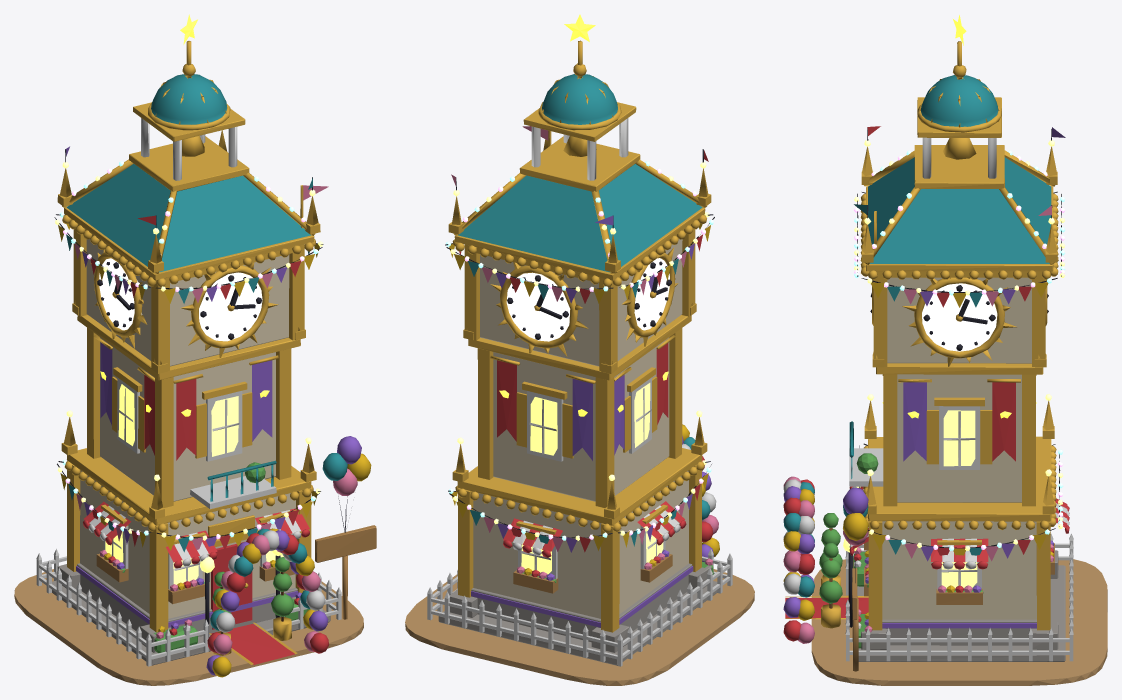
The model's file is clock-tower-stage-6-merged.ae5e9423.glb.
The picture shows the model from 3 angles, left to right: view 1: azimuth 30°, elevation 25°; view 2: azimuth 150°, elevation 25°; view 3: azimuth 270°, elevation 25°; orthographic projection.
Parts seen in each view (by area): view 1: ClockTower_Stage6__T_vcol, ClockTower_Stage6__G_clockface, ClockTower_Stage6__G_window, ClockTower_Stage6__G_bulb_warm, ClockTower_Stage6__G_bulb_cyan; view 2: ClockTower_Stage6__T_vcol, ClockTower_Stage6__G_clockface, ClockTower_Stage6__G_window, ClockTower_Stage6__G_bulb_warm, ClockTower_Stage6__G_bulb_cyan, ClockTower_Stage6__G_star_gold; view 3: ClockTower_Stage6__T_vcol, ClockTower_Stage6__G_clockface, ClockTower_Stage6__G_window, ClockTower_Stage6__G_bulb_warm, ClockTower_Stage6__G_bulb_cyan, ClockTower_Stage6__G_bulb_pink.
Part boxes in pixels (left/top/right/bottom): ClockTower_Stage6__T_vcol: left=14, top=41, right=376, bottom=685; ClockTower_Stage6__G_clockface: left=99, top=258, right=262, bottom=341; ClockTower_Stage6__G_window: left=105, top=384, right=283, bottom=584; ClockTower_Stage6__G_bulb_warm: left=55, top=162, right=323, bottom=540; ClockTower_Stage6__G_bulb_cyan: left=59, top=161, right=318, bottom=540; ClockTower_Stage6__T_vcol: left=405, top=40, right=754, bottom=685; ClockTower_Stage6__G_clockface: left=506, top=258, right=669, bottom=341; ClockTower_Stage6__G_window: left=521, top=383, right=663, bottom=574; ClockTower_Stage6__G_bulb_warm: left=450, top=162, right=709, bottom=540; ClockTower_Stage6__G_bulb_cyan: left=446, top=161, right=713, bottom=540; ClockTower_Stage6__G_star_gold: left=499, top=14, right=668, bottom=416; ClockTower_Stage6__T_vcol: left=783, top=41, right=1107, bottom=685; ClockTower_Stage6__G_clockface: left=922, top=283, right=997, bottom=351; ClockTower_Stage6__G_window: left=843, top=410, right=977, bottom=588; ClockTower_Stage6__G_bulb_warm: left=854, top=140, right=1065, bottom=550; ClockTower_Stage6__G_bulb_cyan: left=854, top=150, right=1065, bottom=550; ClockTower_Stage6__G_bulb_pink: left=854, top=155, right=1065, bottom=549.
Bounding box in the file's own units: 4.96 × 10.87 × 5.24.
